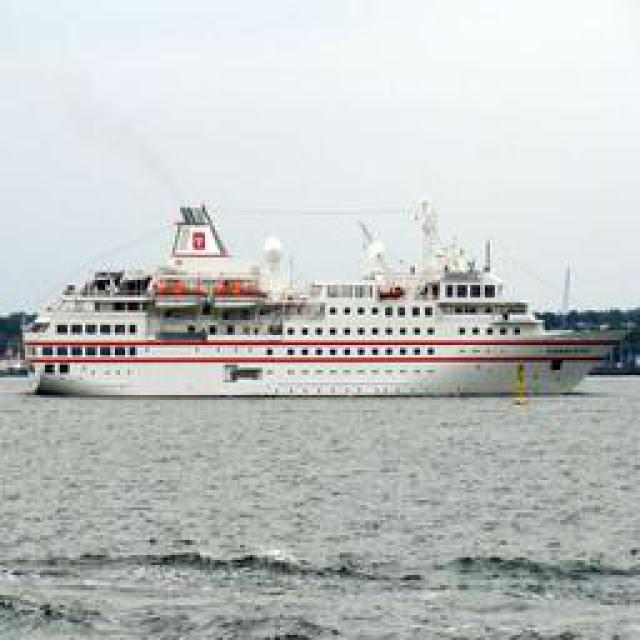Ship: (25, 192, 620, 400)
